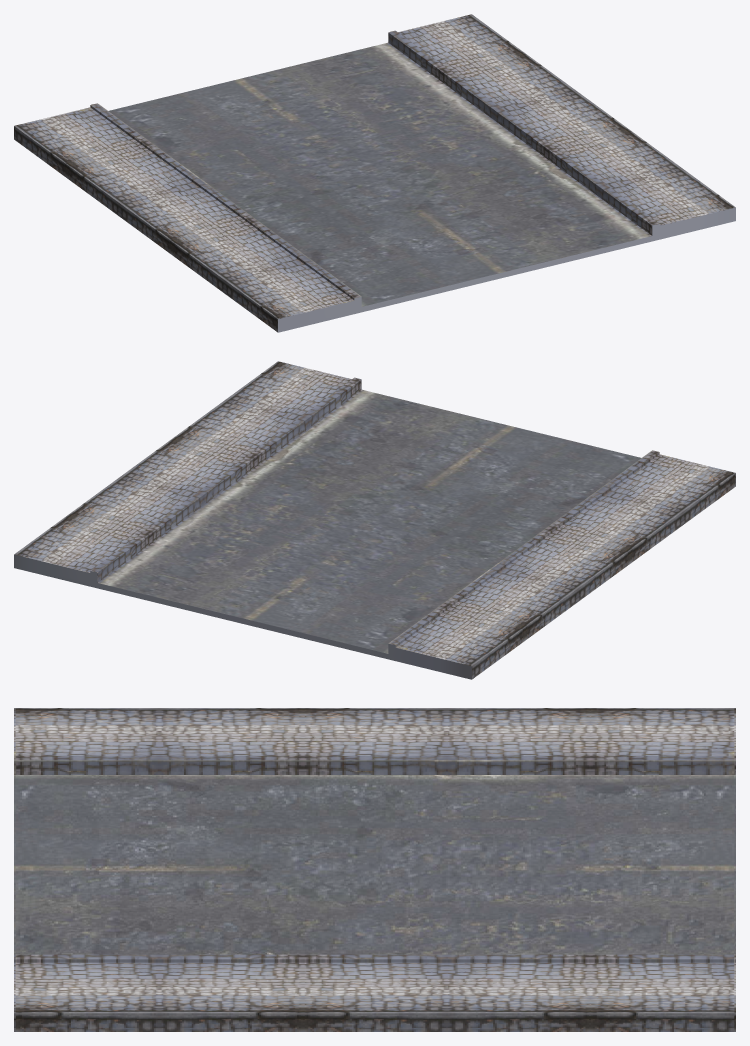
The model's file is low_poly_psx_road.glb.
3 views of the same model, one above another, from view 1: azimuth 30°, elevation 25°; view 2: azimuth 150°, elevation 25°; view 3: azimuth 270°, elevation 25° (orthographic). The views are drawn at different scales.
Visible parts, largest first — view 1: Cube; view 2: Cube; view 3: Cube.
Part boxes in pixels (<box>): Cube: <box>14,14,735,332</box>; Cube: <box>14,361,735,679</box>; Cube: <box>14,708,735,1031</box>.
Bounding box in the file's own units: 3 × 0.099 × 3.
Materials: 1 (1 with a texture image).
